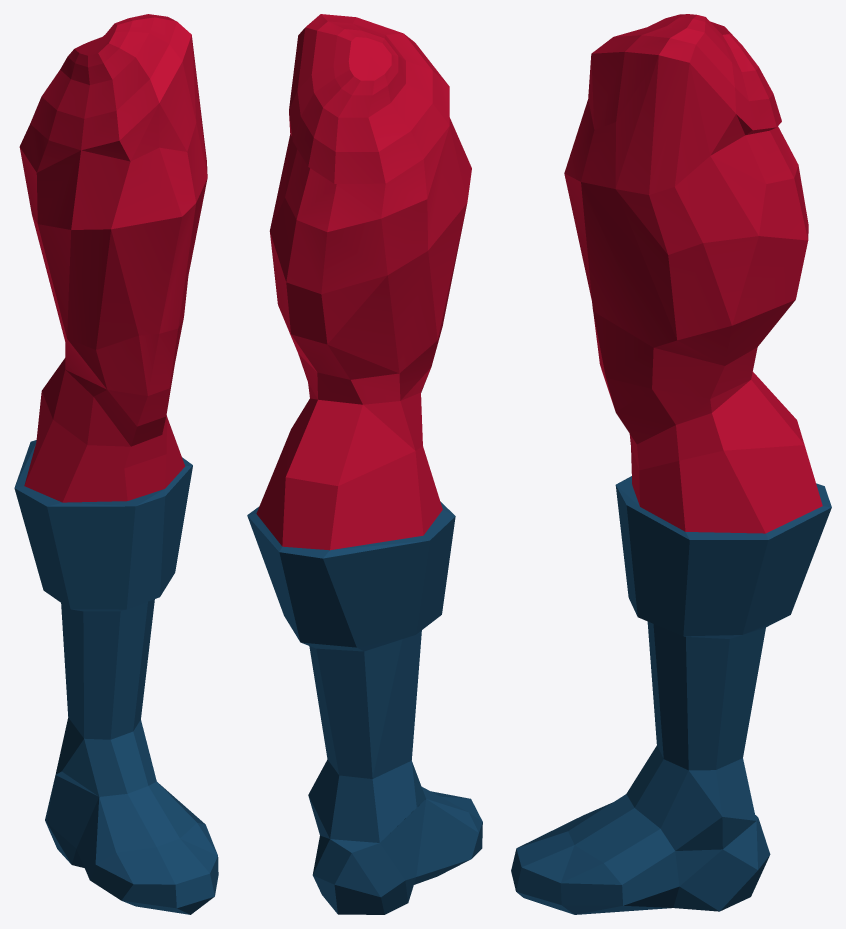
Rendered from right_leg.fbx.
3 renders of one model, left to right at view 1: azimuth 30°, elevation 25°; view 2: azimuth 150°, elevation 25°; view 3: azimuth 270°, elevation 25°, orthographic. The views are drawn at different scales.
Parts seen in each view (by area): view 1: right_thigh; view 2: right_thigh; view 3: right_thigh.
Boxes of the visible parts, left/top/right/bottom form: right_thigh: left=14, top=14, right=218, bottom=914; right_thigh: left=247, top=14, right=482, bottom=914; right_thigh: left=511, top=14, right=831, bottom=914.
Size of the model in its own units: 0.2256 by 1.13 by 0.3677.
